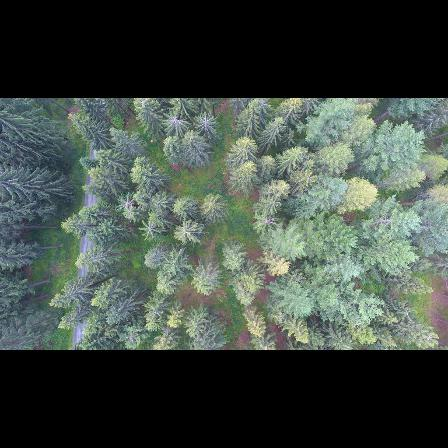Sick: (195, 108, 217, 143), (163, 111, 188, 136), (145, 302, 166, 327), (140, 220, 161, 242), (257, 213, 278, 234), (398, 304, 420, 324)
